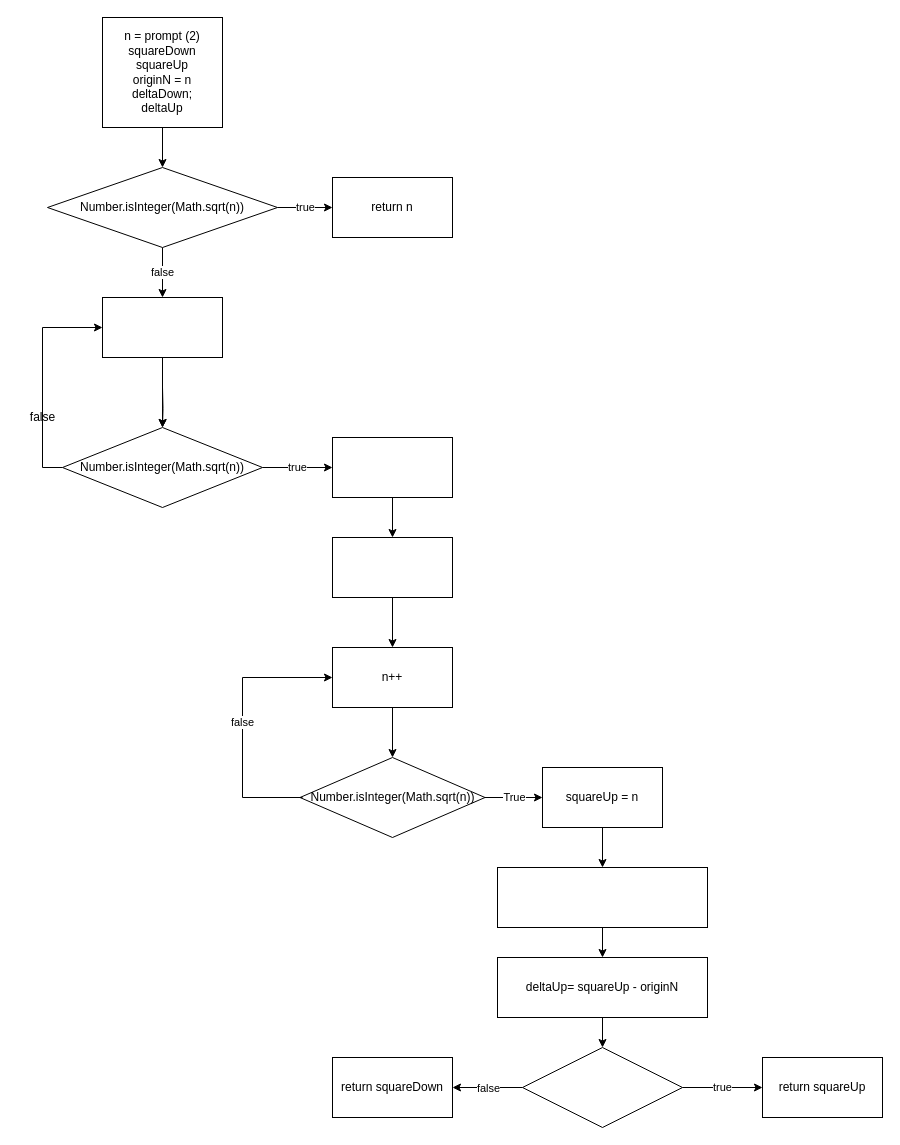
Image size: 900x1145. Some labels were removed from this diagram. The shapes that lost their labels are listed below. From the top down, each one's centre as x and y in pixels, then its label:
At pixel 162 327: "n--".
At pixel 392 467: "squareDown = n".
At pixel 392 567: "n = originN".
At pixel 602 897: "deltaDown = originN - squareDown".
At pixel 602 1087: "deltaUp < deltaDown".
